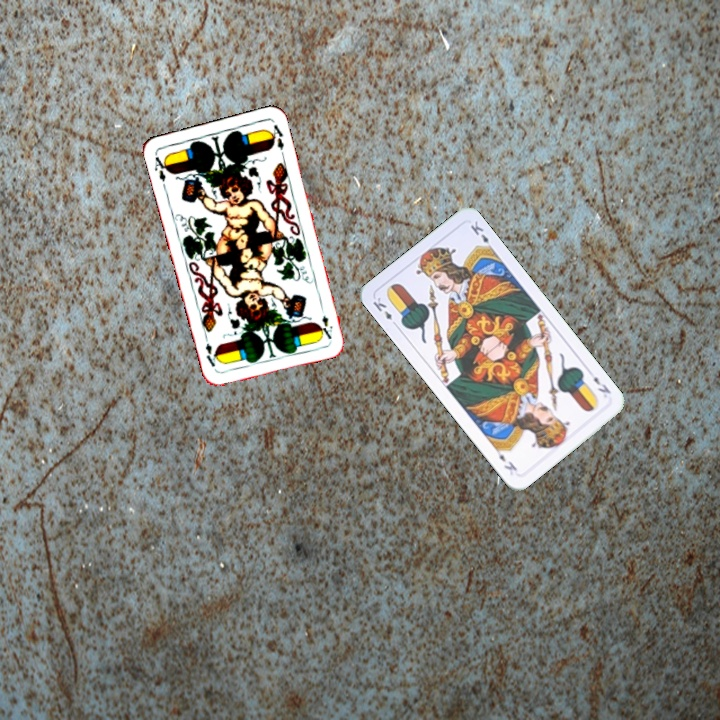EA: (150, 151, 172, 184), (317, 312, 335, 342)
EK: (369, 293, 401, 330), (589, 372, 614, 396)
